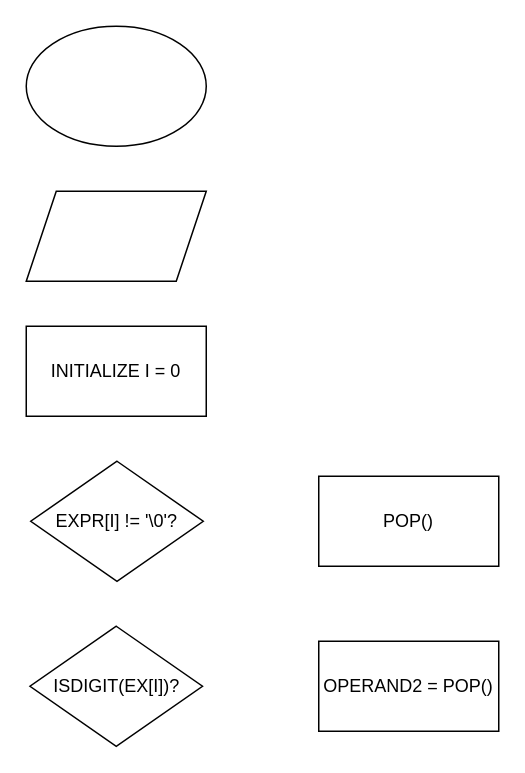
Some shapes in this 525 by 773 pixel diagram are drawn without their labels. Each missing label, with the box of its shape:
GET EXPRESSION: (25, 190, 206, 281)
START: (25, 25, 206, 146)
